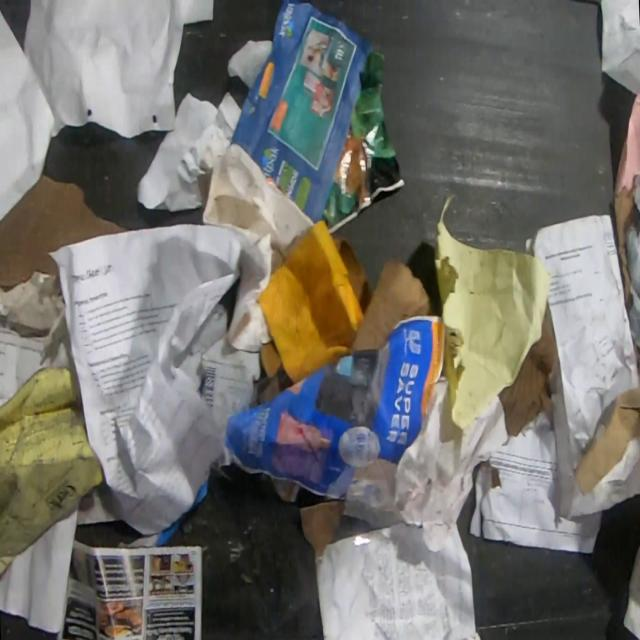cardboard: (0, 172, 130, 291), (331, 234, 437, 353), (198, 332, 263, 467), (495, 300, 558, 436), (572, 386, 640, 497), (612, 177, 637, 305), (298, 499, 344, 561), (259, 339, 283, 381)
soft_plastic: (319, 47, 406, 235), (225, 38, 274, 90), (350, 516, 374, 548)
